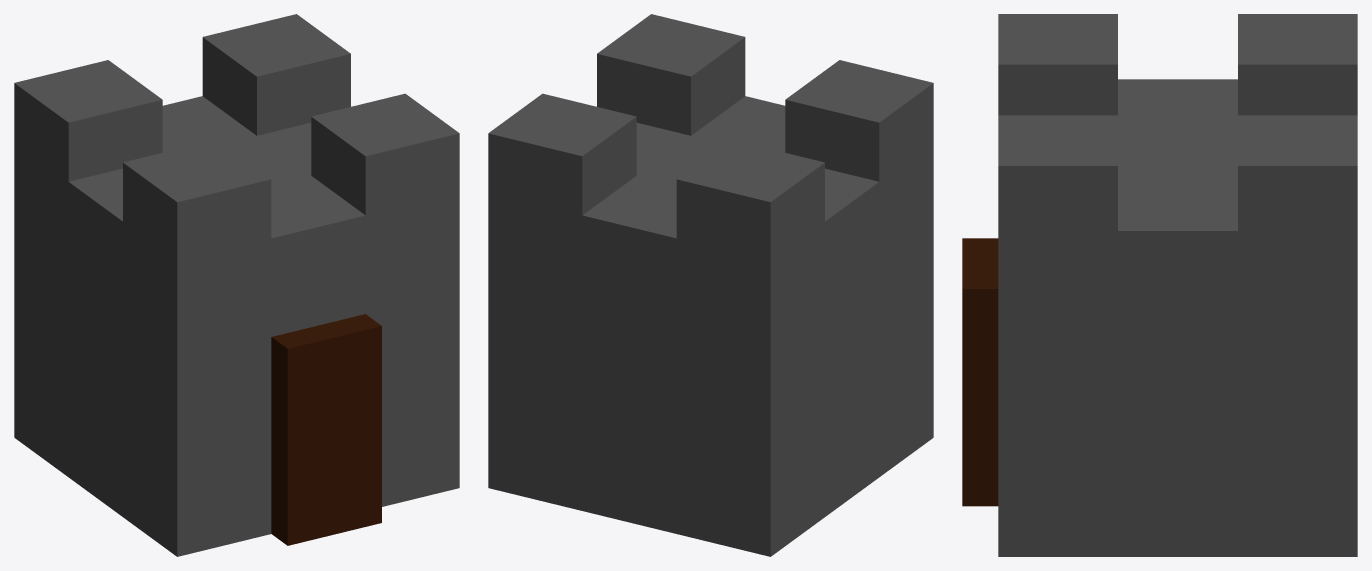
Rendered from CastleNew.FBX.
The picture shows the model from 3 angles, left to right: view 1: azimuth 30°, elevation 25°; view 2: azimuth 150°, elevation 25°; view 3: azimuth 270°, elevation 25°; orthographic projection. The views are drawn at different scales.
Visible parts, largest first — view 1: Castle; view 2: Castle; view 3: Castle.
Boxes of the visible parts, x1,y1,x2,y2 form: Castle: (14, 14, 459, 556); Castle: (488, 14, 933, 556); Castle: (962, 14, 1357, 556).
Bounding box in the file's own units: 0.1 × 0.12 × 0.11.
